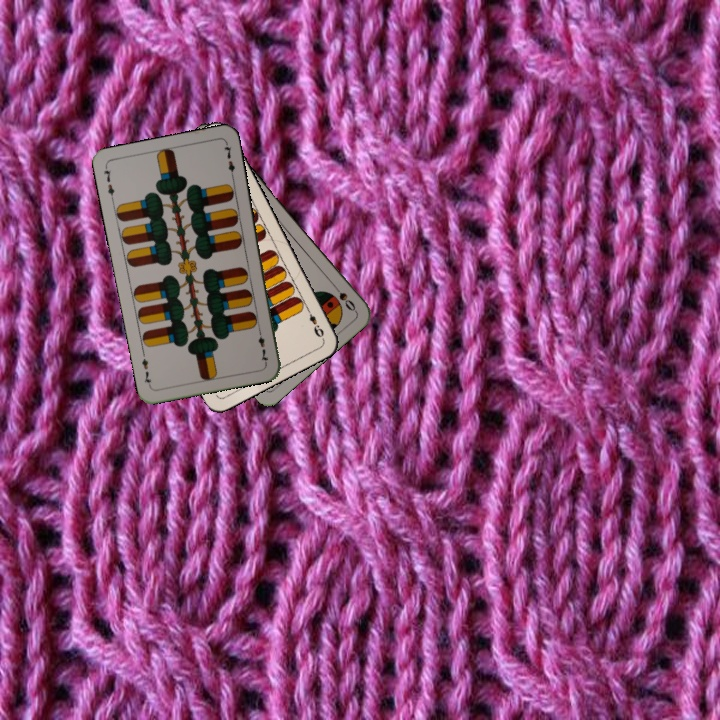E7: (99, 163, 117, 203), (254, 325, 271, 365)
E9: (302, 303, 327, 341)
SO: (328, 279, 358, 314)
